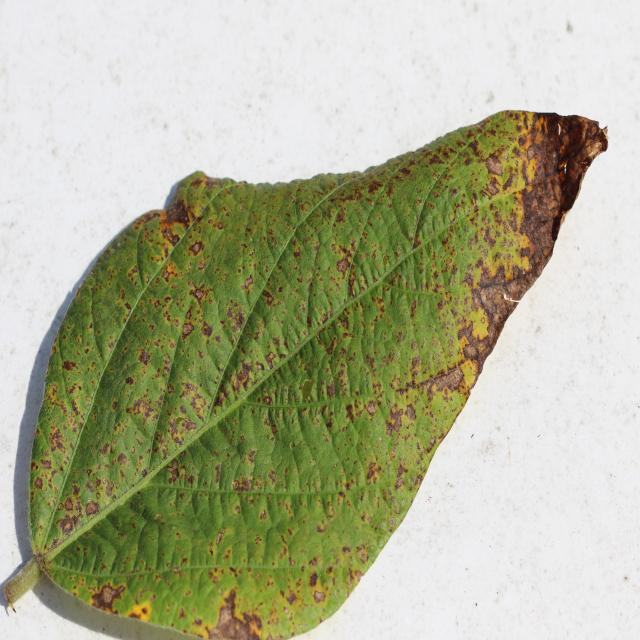Bacterial_Blight: (517, 118, 562, 245), (455, 307, 502, 377), (204, 589, 262, 639), (177, 381, 208, 422), (55, 494, 84, 535), (127, 395, 160, 428), (90, 582, 125, 612), (165, 196, 193, 229), (232, 360, 255, 393), (47, 423, 70, 454), (226, 302, 247, 335), (332, 363, 351, 397), (387, 406, 405, 433), (471, 288, 487, 312), (165, 460, 181, 484), (188, 283, 206, 303), (365, 461, 380, 482), (233, 477, 253, 492), (503, 170, 517, 191), (336, 256, 351, 275), (355, 544, 369, 564), (188, 240, 204, 256), (472, 258, 486, 276), (348, 273, 358, 296), (138, 349, 151, 366), (261, 290, 274, 307), (458, 335, 470, 353), (181, 321, 194, 337), (264, 351, 277, 367), (486, 181, 500, 195), (62, 359, 77, 372), (201, 321, 213, 337), (313, 589, 326, 603), (366, 400, 377, 416), (128, 266, 139, 282), (327, 380, 336, 399), (40, 458, 52, 471), (243, 276, 254, 290), (216, 529, 225, 546), (308, 571, 318, 586), (161, 267, 171, 282), (286, 592, 297, 605), (34, 476, 44, 490), (117, 452, 127, 466), (412, 236, 422, 250), (382, 253, 391, 267), (85, 481, 95, 493), (395, 477, 404, 490), (259, 508, 267, 520), (388, 516, 395, 529), (125, 376, 134, 386), (450, 187, 458, 197), (123, 301, 131, 311), (197, 261, 205, 271), (264, 395, 272, 405), (321, 313, 328, 324), (141, 469, 148, 478), (176, 531, 181, 539)
Soybean: (29, 111, 608, 638)
